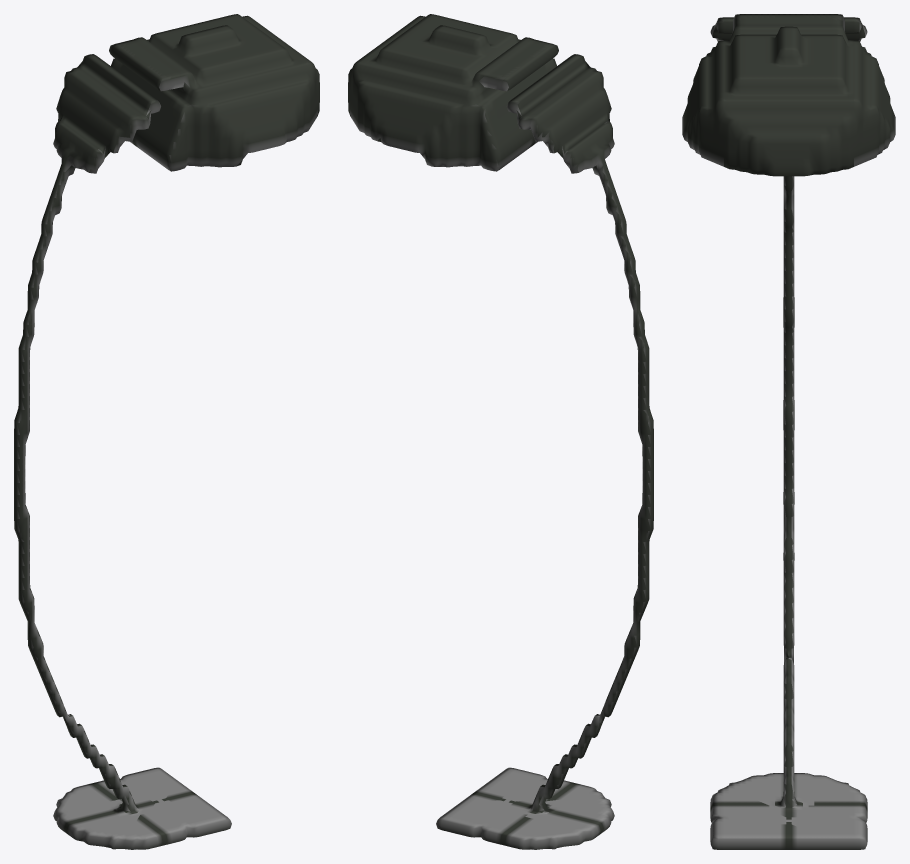
File: stack3.glb
3 renders of one model, left to right at view 1: azimuth 30°, elevation 25°; view 2: azimuth 150°, elevation 25°; view 3: azimuth 270°, elevation 25°, orthographic. The views are drawn at different scales.
Size of the model in its own units: 0.6844 by 1.73 by 0.4083.
1 material, 1 textured.
